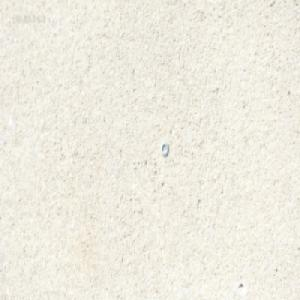Washer: (160, 141, 168, 156)
